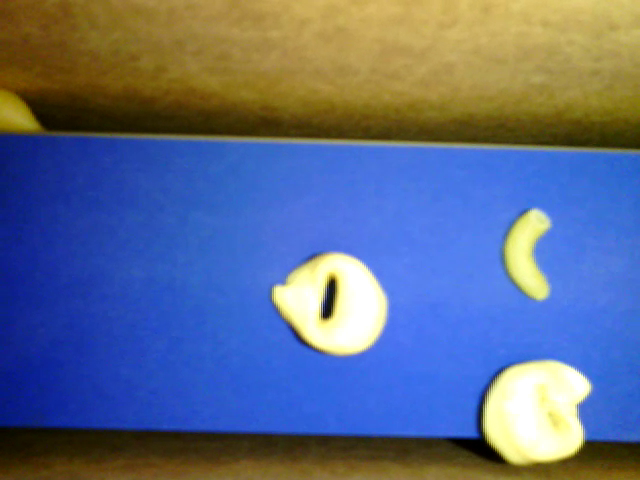elbow: (503, 207, 550, 302)
tortellini: (271, 250, 388, 355), (478, 360, 594, 465)
